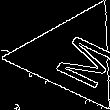M_NW: (35, 24, 109, 88)
